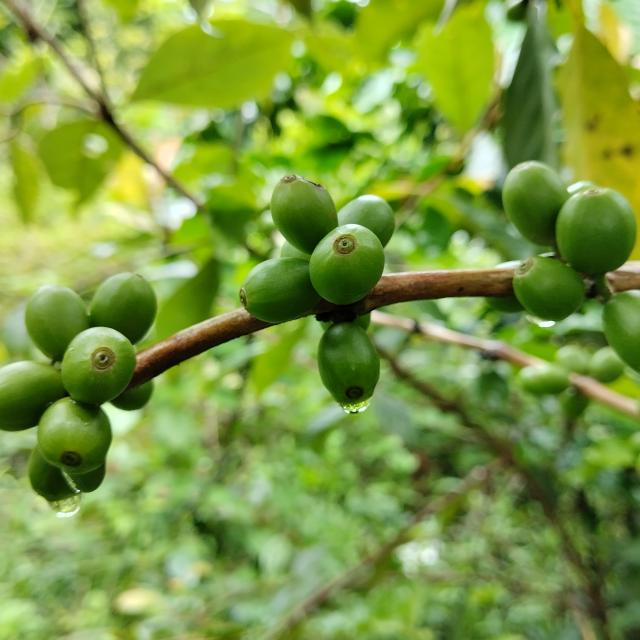green: (556, 187, 638, 274), (556, 187, 638, 274), (309, 224, 385, 305), (60, 327, 135, 405), (36, 397, 111, 475), (503, 160, 571, 246), (503, 160, 571, 246), (270, 174, 338, 254), (239, 257, 321, 323), (318, 322, 380, 405), (24, 284, 89, 361), (89, 272, 156, 344), (514, 256, 586, 321), (0, 361, 65, 432), (338, 194, 395, 247), (604, 290, 640, 373), (604, 290, 640, 373)
